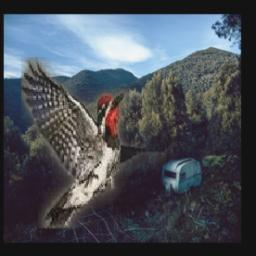Woodpecker: (21, 57, 173, 228)
